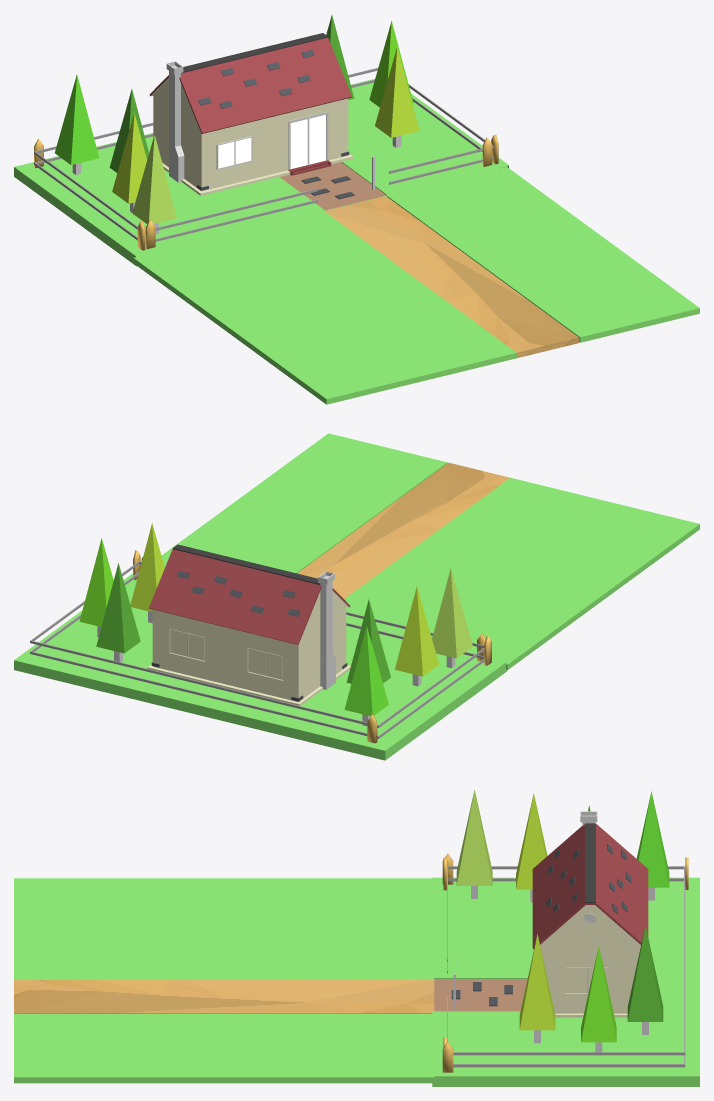
File: house.glb
3 views of the same model, one above another, from view 1: azimuth 30°, elevation 25°; view 2: azimuth 150°, elevation 25°; view 3: azimuth 270°, elevation 25° (orthographic). The views are drawn at different scales.
Parts seen in each view (by area): view 1: Cube.027, Cube.028, Plane, Plane.001, Cube.029, Plane.035, Plane.039, Plane.042, Plane.044, Cube.012, Plane.040, Plane.017 (+3 smaller); view 2: Cube.027, Plane.001, Plane, Cube.028, Cube.029, Plane.038, Plane.044, Plane.035, Plane.042, Cube.012, Plane.040, Plane.039 (+3 smaller); view 3: Cube.027, Plane, Cube.028, Plane.001, Cube.029, Plane.039, Plane.040, Plane.042, Plane.038, Plane.035, Plane.044, Cube.021 (+1 smaller).
Part boxes in pixels (box(x1,y1,x2,y2)): Cube.027: box(133, 211, 517, 404); Cube.028: box(387, 166, 699, 342); Plane: box(14, 79, 509, 266); Plane.001: box(149, 33, 353, 195); Cube.029: box(324, 196, 579, 357); Plane.035: box(55, 74, 99, 164); Plane.039: box(375, 47, 419, 137); Plane.042: box(132, 134, 176, 223); Plane.044: box(112, 113, 146, 203); Cube.012: box(166, 61, 184, 182); Plane.040: box(369, 21, 413, 107); Plane.017: box(216, 136, 252, 169); Cube.027: box(344, 477, 699, 669); Plane.001: box(147, 544, 350, 705); Plane: box(14, 573, 507, 760); Cube.028: box(161, 433, 447, 573); Cube.029: box(297, 462, 509, 598); Plane.038: box(96, 563, 140, 653); Plane.044: box(395, 586, 438, 676); Plane.035: box(344, 626, 388, 715); Plane.042: box(432, 568, 472, 658); Cube.012: box(318, 571, 335, 689); Plane.040: box(79, 538, 113, 626); Plane.039: box(130, 523, 164, 612); Cube.027: box(14, 878, 434, 979); Plane: box(432, 877, 699, 1086); Cube.028: box(14, 1013, 434, 1083); Plane.001: box(532, 823, 648, 1017); Cube.029: box(14, 980, 434, 1013); Plane.039: box(519, 934, 555, 1030); Plane.040: box(581, 946, 616, 1042); Plane.042: box(456, 790, 492, 885); Plane.038: box(627, 925, 663, 1021); Plane.035: box(636, 791, 669, 887); Plane.044: box(516, 793, 547, 889); Cube.021: box(453, 1052, 685, 1055).
Bounding box in the file's own units: 21.56 × 6.7 × 31.31.
17 materials, 1 textured.
